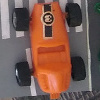naranja: (11, 3, 86, 99)
